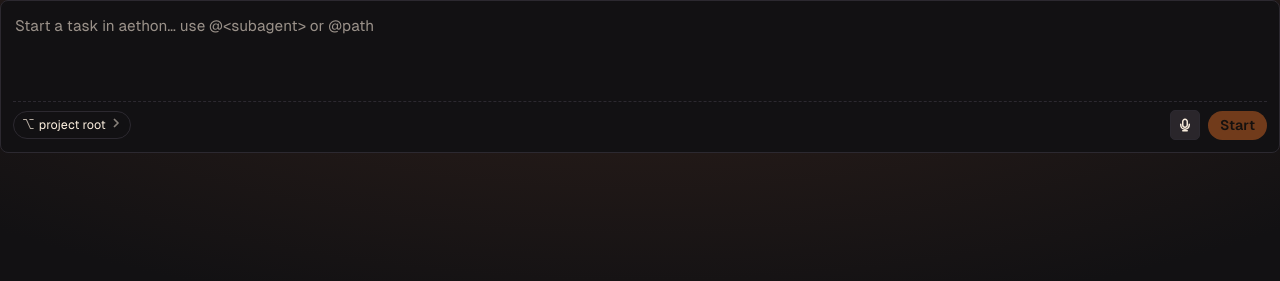
Test: TaskLauncher › exposes chip menus and supports keyboard navigation with focus restore
Click the button with aria-label "Workspace" at (72, 125), box [13,111,131,139]
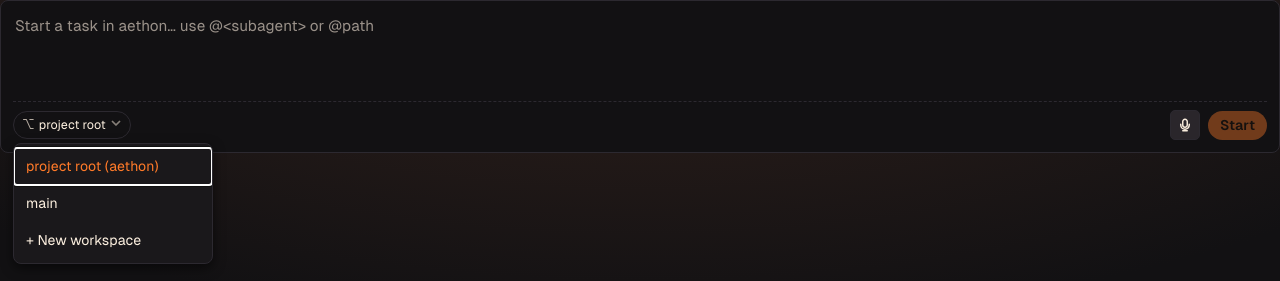
Press ArrowDown in the menu item "project root (aethon)", box [14,148,212,185]
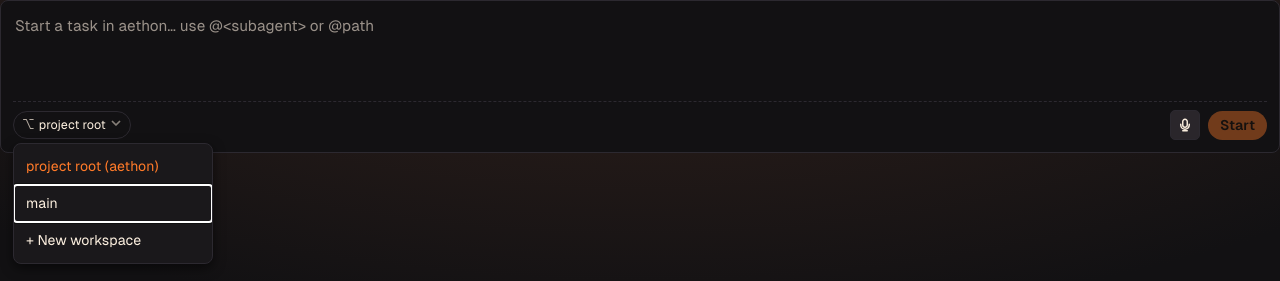
Press Escape in the menu item "main", box [14,185,212,222]
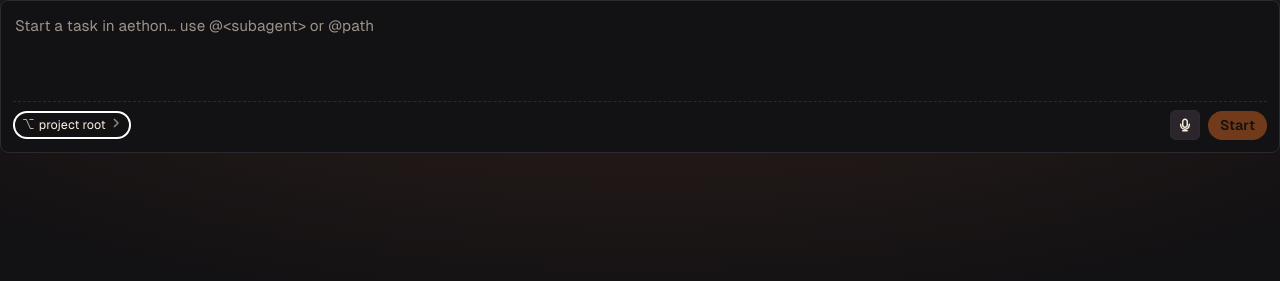
Check: the 2nd icon is shown, box [110,117,122,129]
Check: the menu is gone
